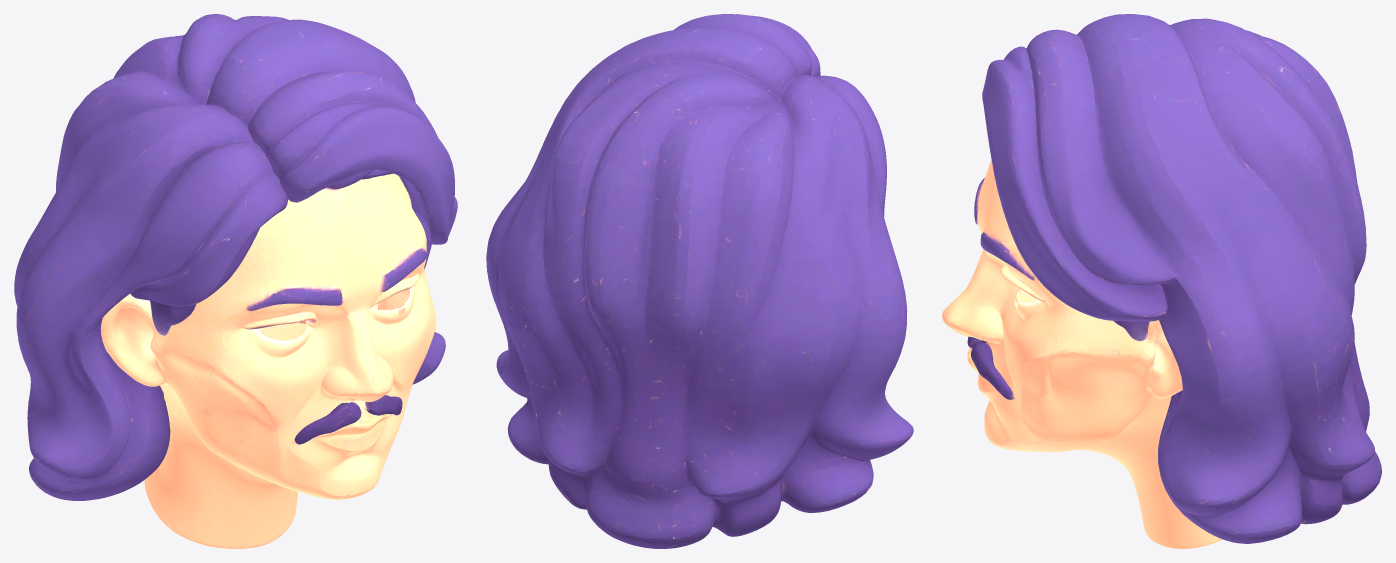
The model's file is sample_00049.glb.
3 renders of one model, left to right at view 1: azimuth 30°, elevation 25°; view 2: azimuth 150°, elevation 25°; view 3: azimuth 270°, elevation 25°, orthographic. The views are drawn at different scales.
Parts seen in each view (by area): view 1: Neutral face; view 2: Neutral face; view 3: Neutral face.
Part boxes in pixels (bbox=[...]): Neutral face: bbox=[14, 14, 457, 548]; Neutral face: bbox=[486, 14, 913, 548]; Neutral face: bbox=[942, 14, 1381, 548].
Bounding box in the file's own units: 1.63 × 1.84 × 1.43.
1 material, 1 textured.
